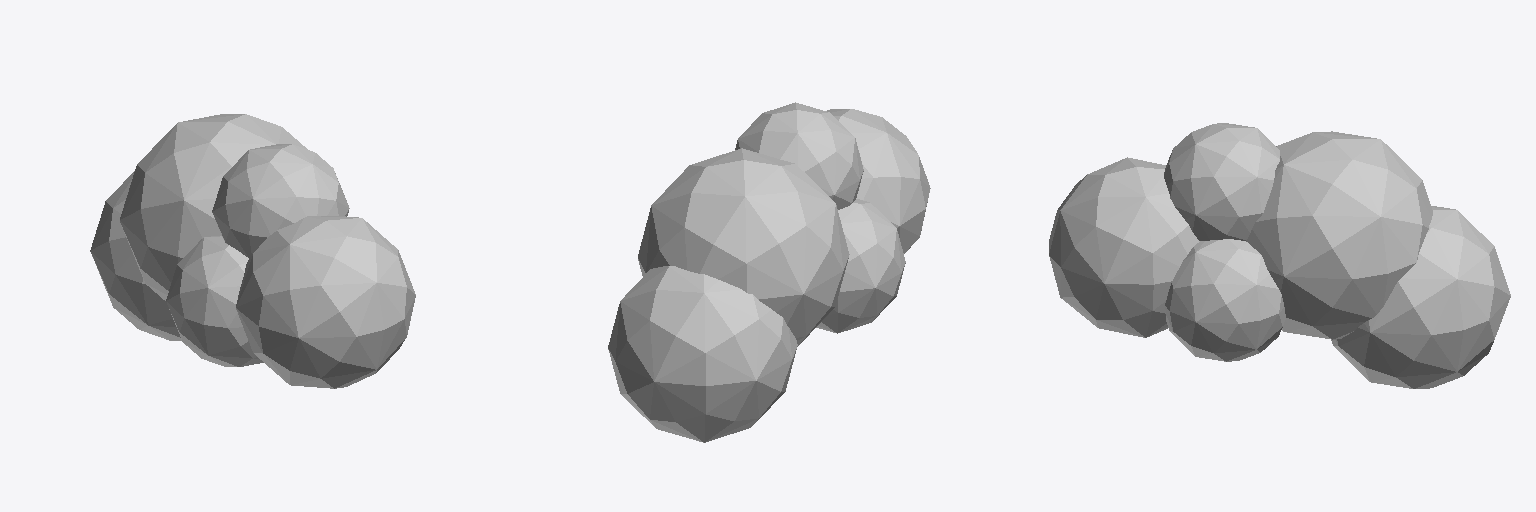
File: Bush.obj
3 views of the same model, side by side, from view 1: azimuth 30°, elevation 25°; view 2: azimuth 150°, elevation 25°; view 3: azimuth 270°, elevation 25° (orthographic).
Parts seen in each view (by area): view 1: polySurface5; view 2: polySurface5; view 3: polySurface5.
Boxes of the visible parts, x1=… form: polySurface5: x1=90, y1=114, x2=415, y2=388; polySurface5: x1=608, y1=102, x2=930, y2=442; polySurface5: x1=1049, y1=123, x2=1510, y2=388.
Bounding box in the file's own units: 13 × 15.37 × 25.35.